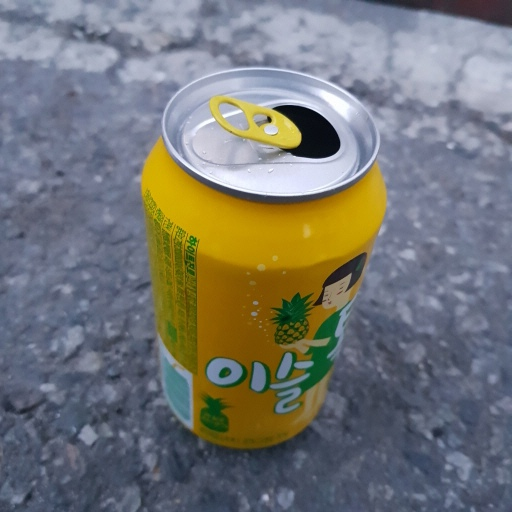Metal_0: (137, 70, 390, 450)
